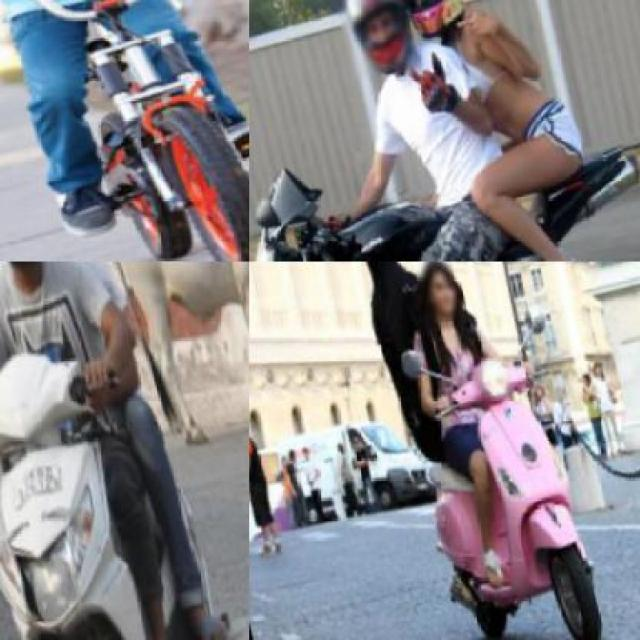With Helmet: (326, 0, 419, 88), (384, 0, 478, 55)
Without Helmet: (408, 262, 462, 332)
